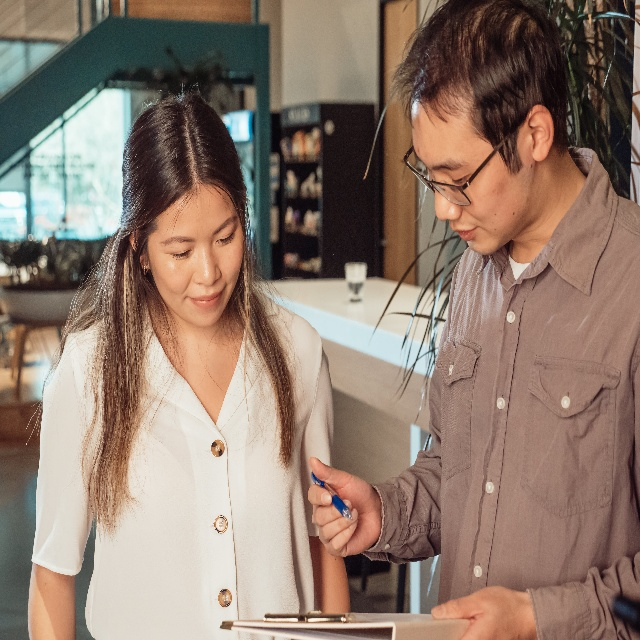Gafas: (403, 126, 517, 207)
Sin_guantes: (307, 456, 380, 558), (430, 584, 530, 640)
